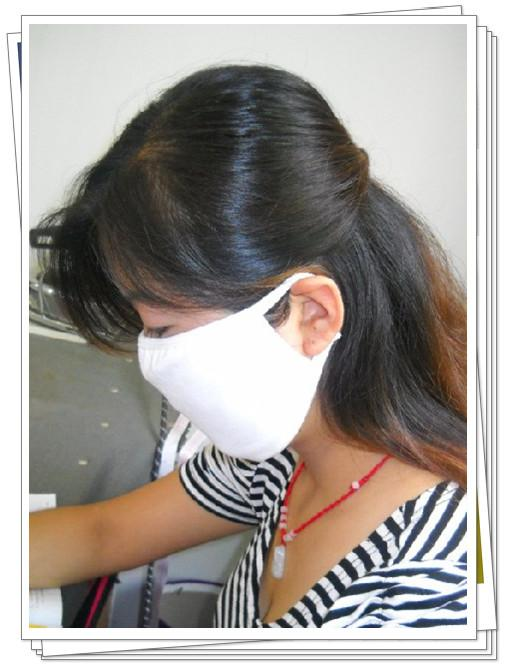OK: (129, 281, 311, 463)
